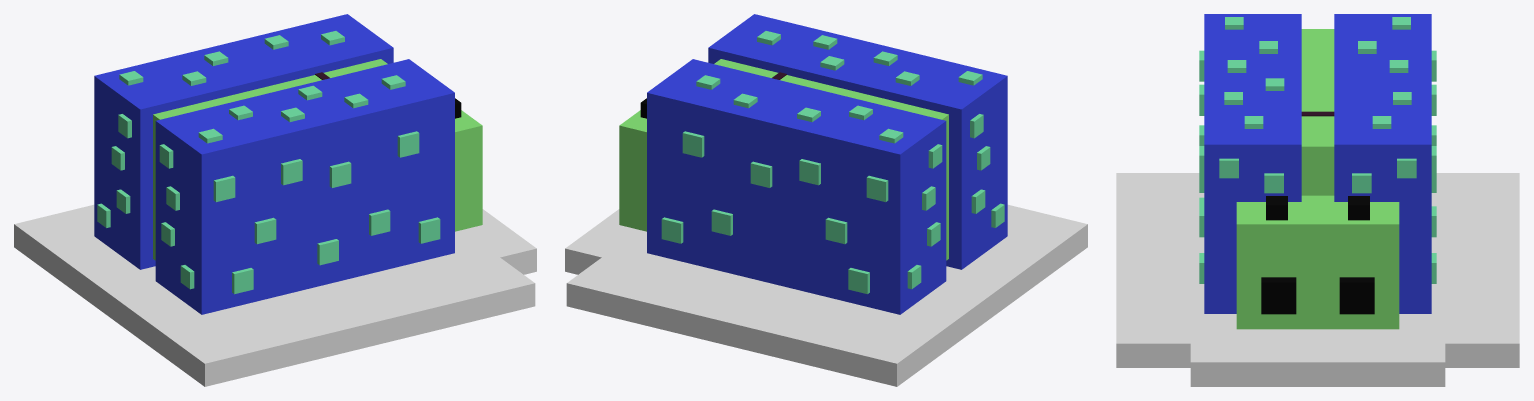
The model's file is J_Bug_JAM.fbx.
3 views of the same model, side by side, from view 1: azimuth 30°, elevation 25°; view 2: azimuth 150°, elevation 25°; view 3: azimuth 270°, elevation 25° (orthographic). The views are drawn at different scales.
Parts seen in each view (by area): view 1: Cube.016, Cube; view 2: Cube.016, Cube; view 3: Cube.016, Cube.
Boxes of the visible parts, box(x1,y1,x2,y2) form: Cube.016: box(94, 14, 482, 314); Cube: box(14, 204, 536, 386); Cube.016: box(619, 14, 1007, 314); Cube: box(565, 204, 1087, 386); Cube.016: box(1199, 14, 1436, 329); Cube: box(1116, 173, 1519, 386).
Size of what is drawn, in the model's own units: 493 by 253 by 444.
